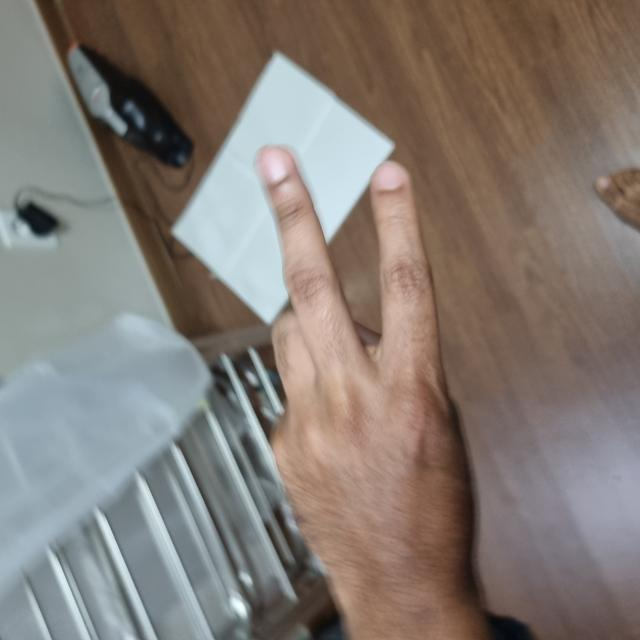Scissors: (15, 266, 489, 469)
